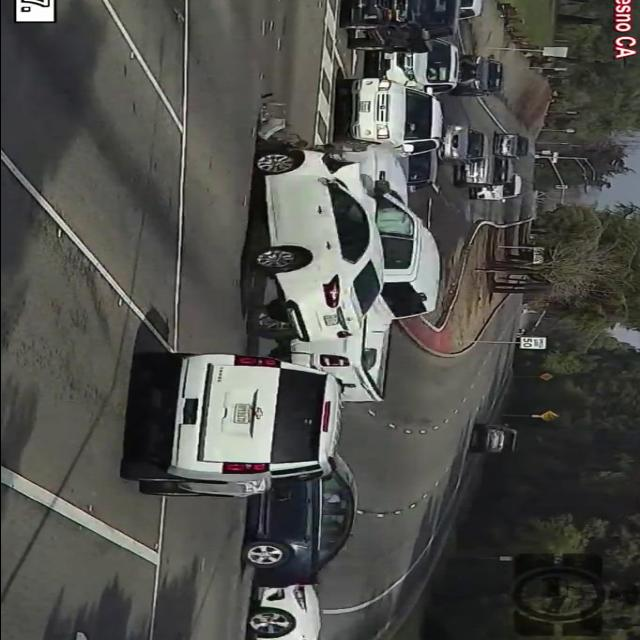accident: (224, 133, 438, 410)
non_accident: (331, 0, 488, 93), (424, 108, 532, 211)
